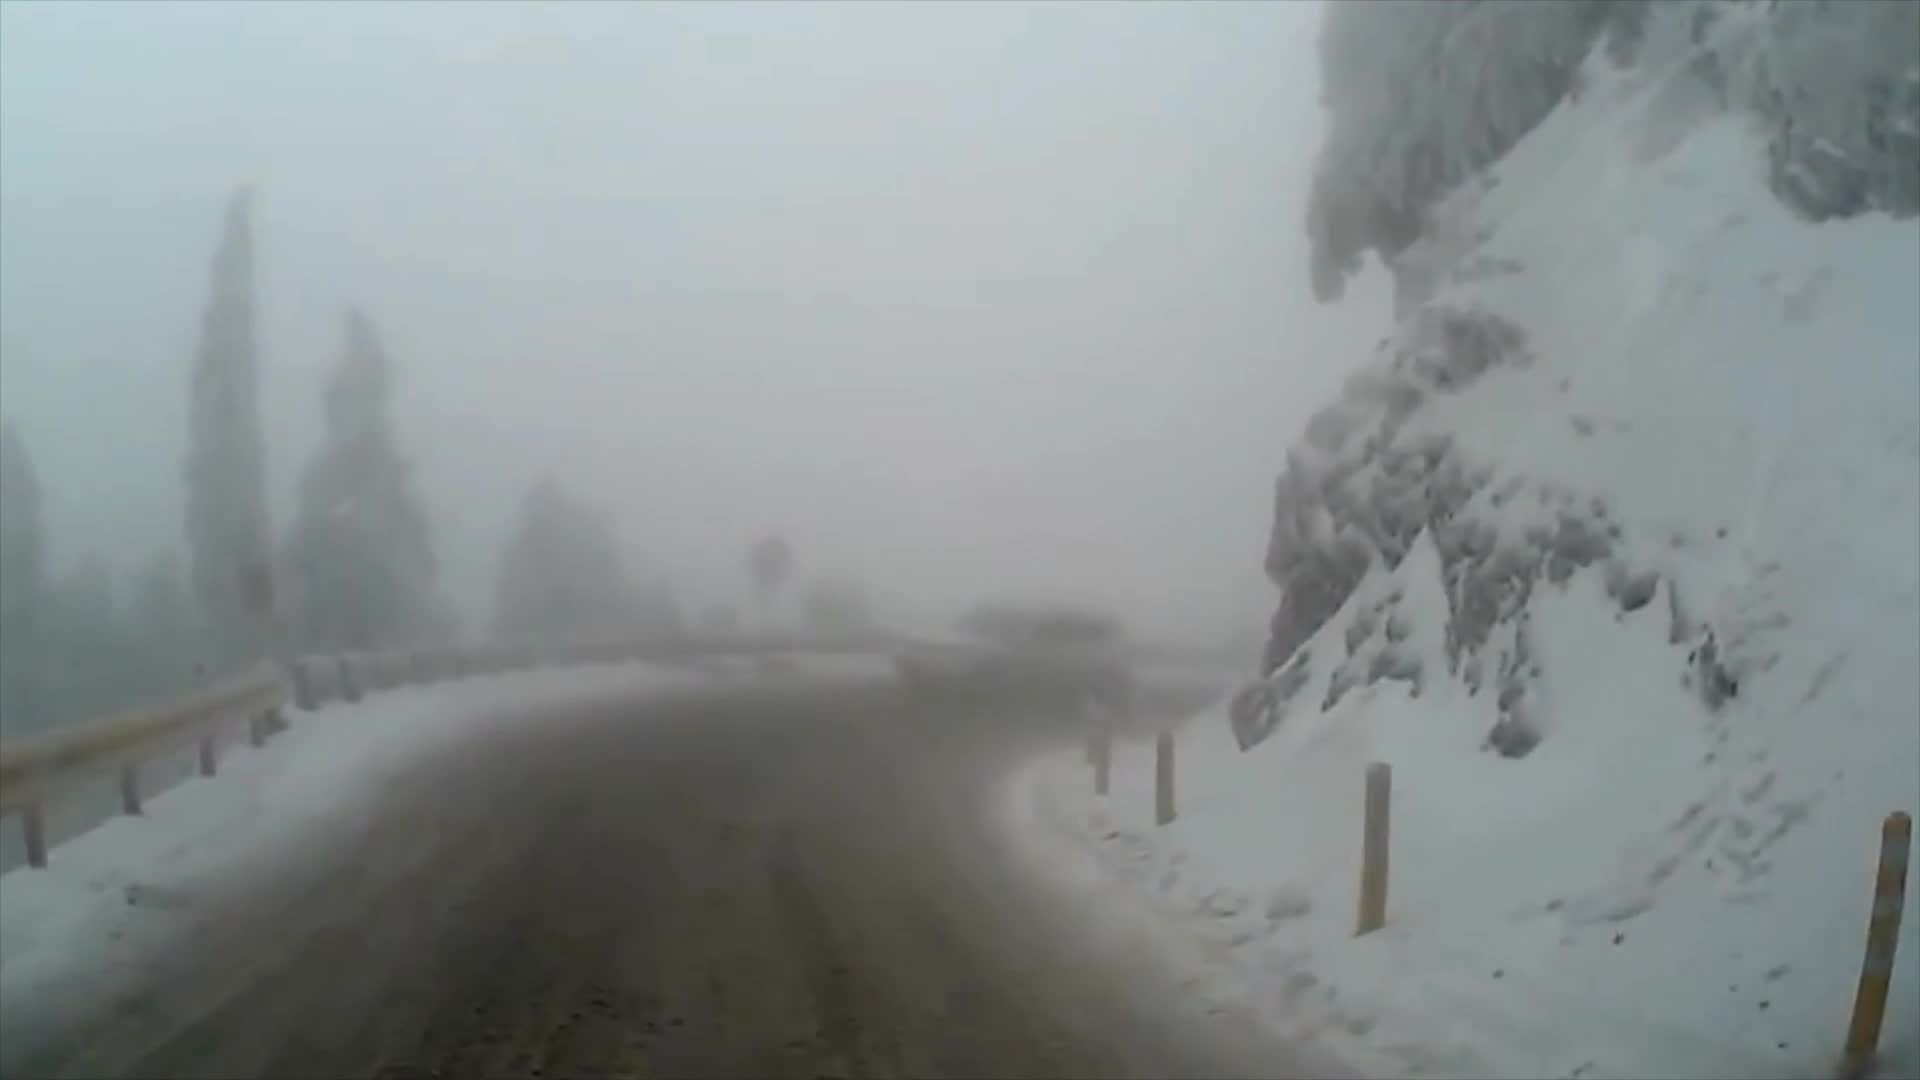vehicle: (882, 597, 1130, 716)
